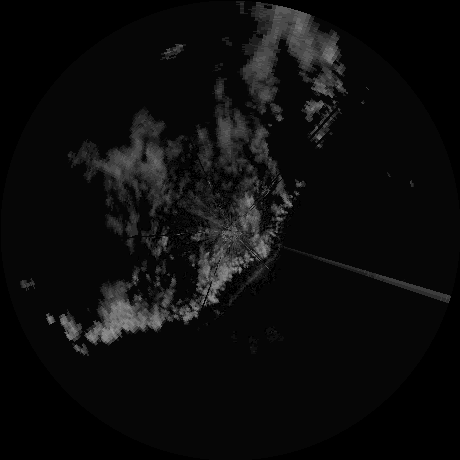frontgust: (230, 245, 278, 302)
